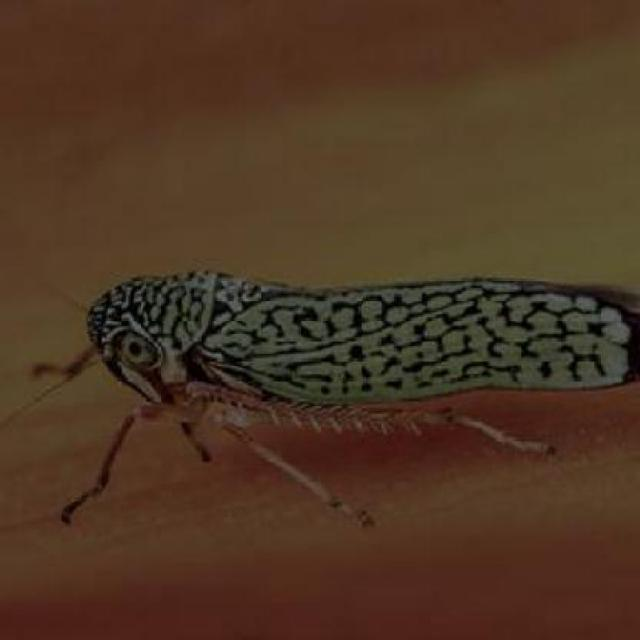green-leafhopper: (28, 272, 638, 530)
